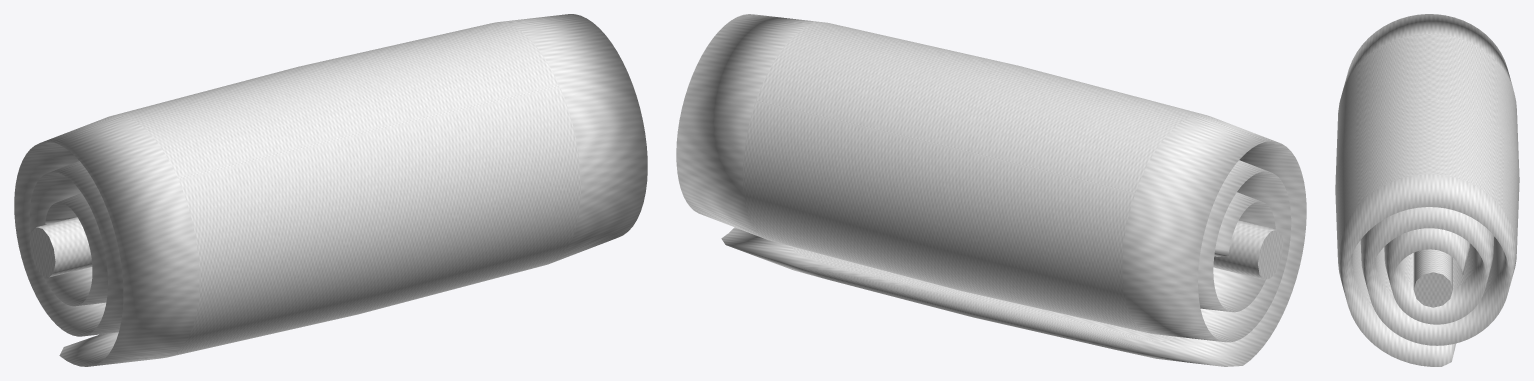
Rendered from roll.glb.
The picture shows the model from 3 angles, left to right: view 1: azimuth 30°, elevation 25°; view 2: azimuth 150°, elevation 25°; view 3: azimuth 270°, elevation 25°; orthographic projection. The views are drawn at different scales.
Visible parts, largest first — view 1: roll, roll_core; view 2: roll, roll_core; view 3: roll, roll_core.
Part boxes in pixels (bbox=[...]): roll: bbox=[14, 14, 647, 366]; roll_core: bbox=[29, 217, 92, 277]; roll: bbox=[676, 14, 1306, 366]; roll_core: bbox=[1213, 220, 1283, 279]; roll: bbox=[1335, 14, 1519, 366]; roll_core: bbox=[1413, 249, 1452, 307].
Bounding box in the file's own units: 13.93 × 5.5 × 5.18.
Materials: 1 (1 with a texture image).
